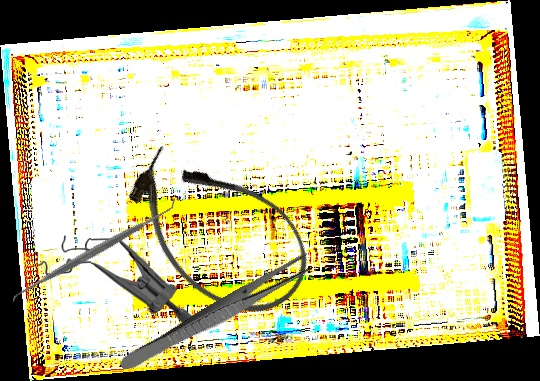Cannula: (103, 124, 332, 340)
Dressing Forceps: (117, 250, 316, 378)
Spatula Surgical: (5, 195, 184, 307)
Speculum: (37, 231, 201, 334)
